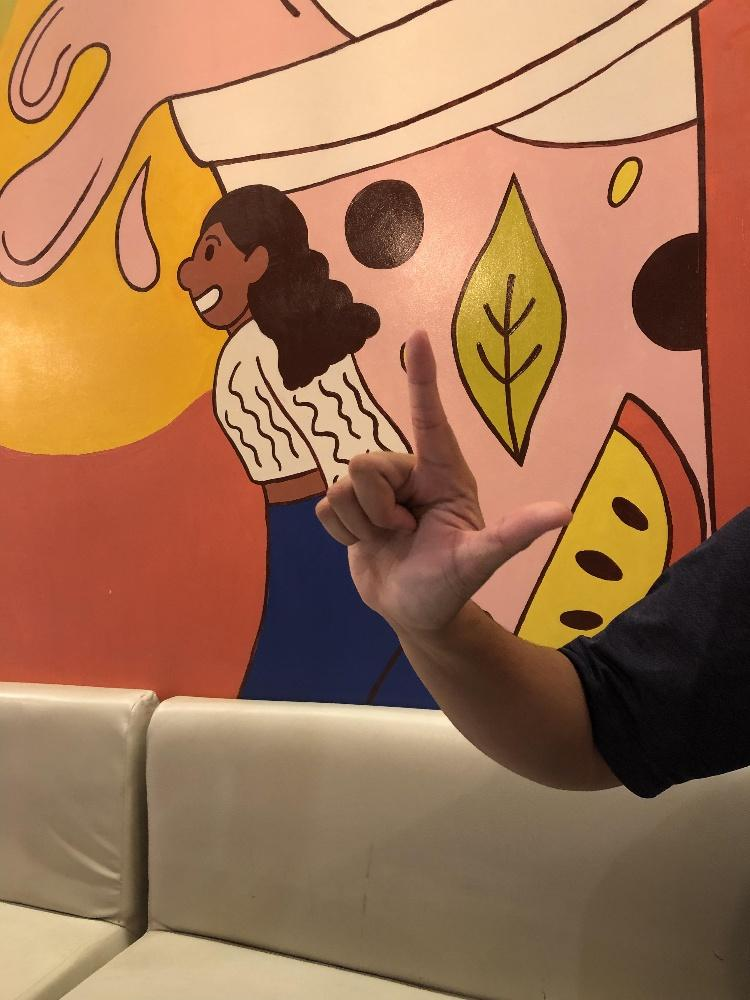l: (314, 327, 574, 627)
